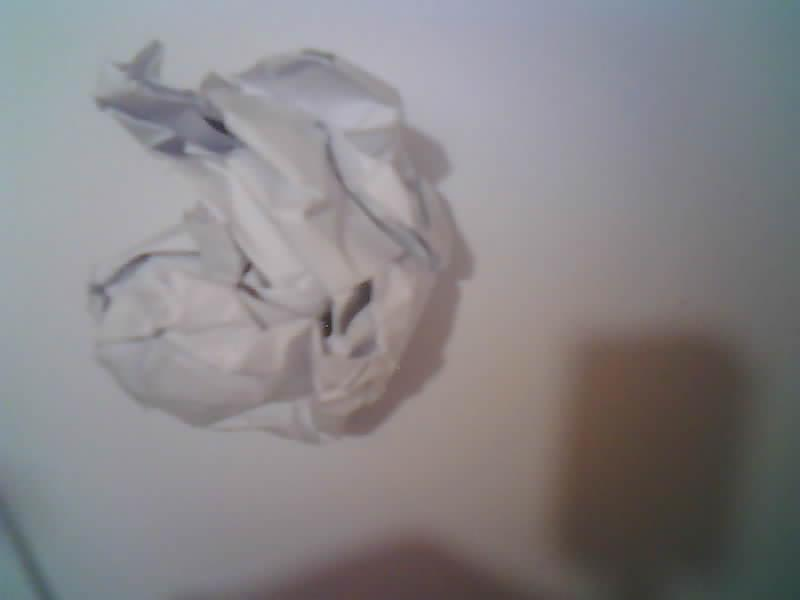biodegradable: (88, 42, 449, 440)
